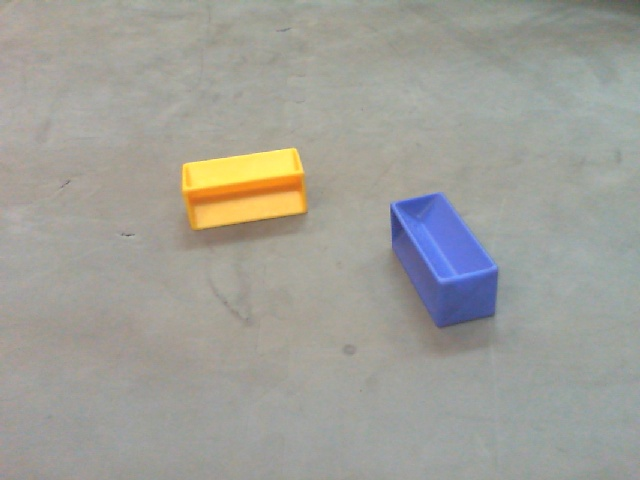BlueSample: (387, 190, 503, 326)
YellowSample: (179, 147, 313, 232)
